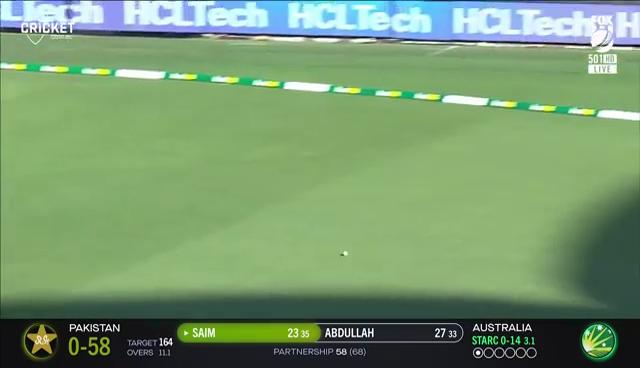ball: (336, 237, 366, 269)
